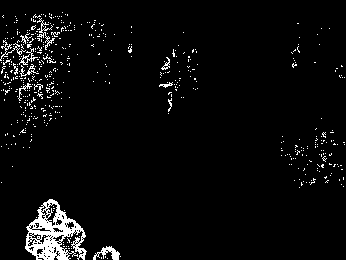person: (24, 196, 88, 260), (160, 56, 177, 113)
